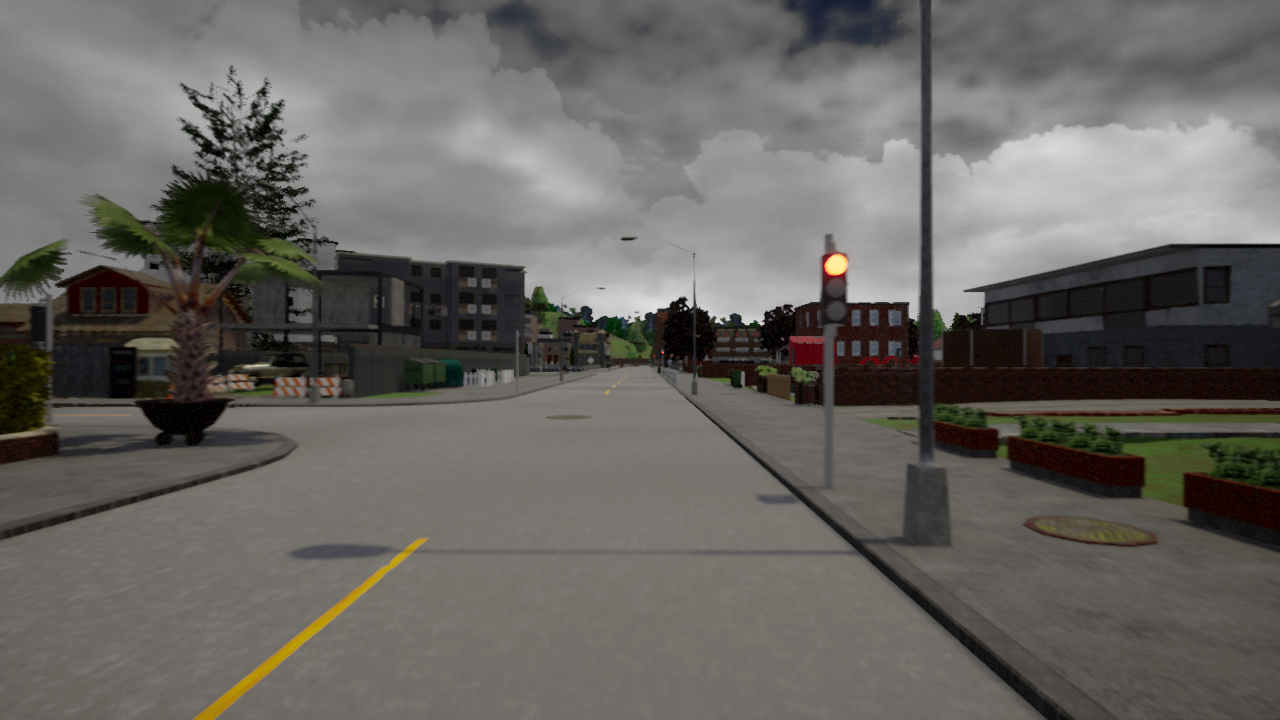red: (819, 253, 849, 329)
